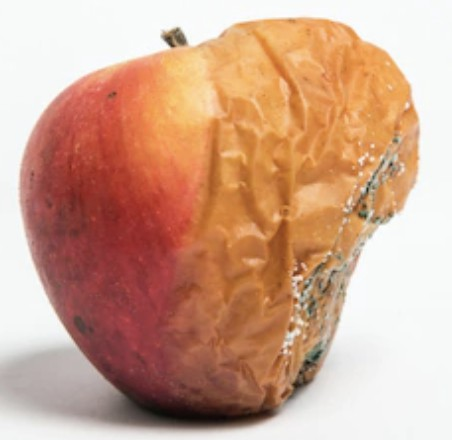rotten_apple: (21, 18, 420, 414)
